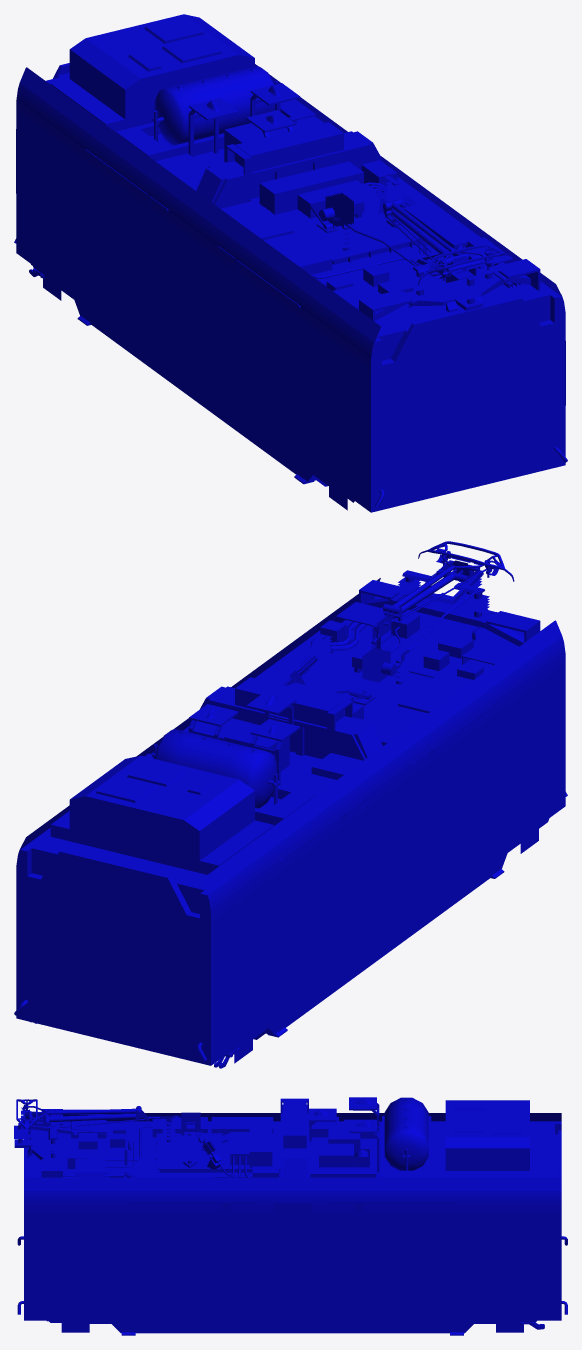
3 renders of one model, top to bottom at view 1: azimuth 30°, elevation 25°; view 2: azimuth 150°, elevation 25°; view 3: azimuth 270°, elevation 25°, orthographic. The views are drawn at different scales.
Parts seen in each view (by area): view 1: omneo 6.005Regio 2N STIF 8-car; view 2: omneo 6.005Regio 2N STIF 8-car; view 3: omneo 6.005Regio 2N STIF 8-car.
Part boxes in pixels (<box>): omneo 6.005Regio 2N STIF 8-car: <box>14,14,567,512</box>; omneo 6.005Regio 2N STIF 8-car: <box>14,541,567,1068</box>; omneo 6.005Regio 2N STIF 8-car: <box>14,1097,567,1335</box>.
Bounding box in the file's own units: 3.14 × 4.27 × 9.91.
